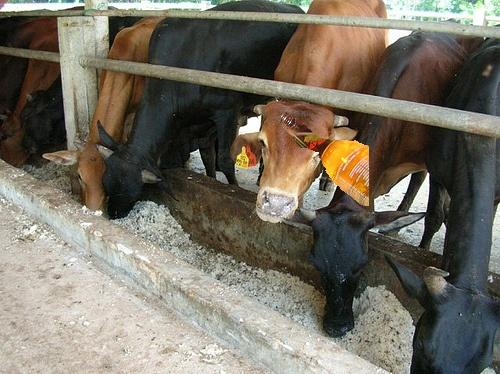tampered: (281, 113, 369, 206)
